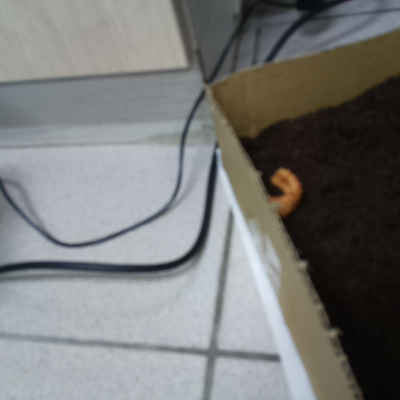eggs: (257, 161, 307, 221)
